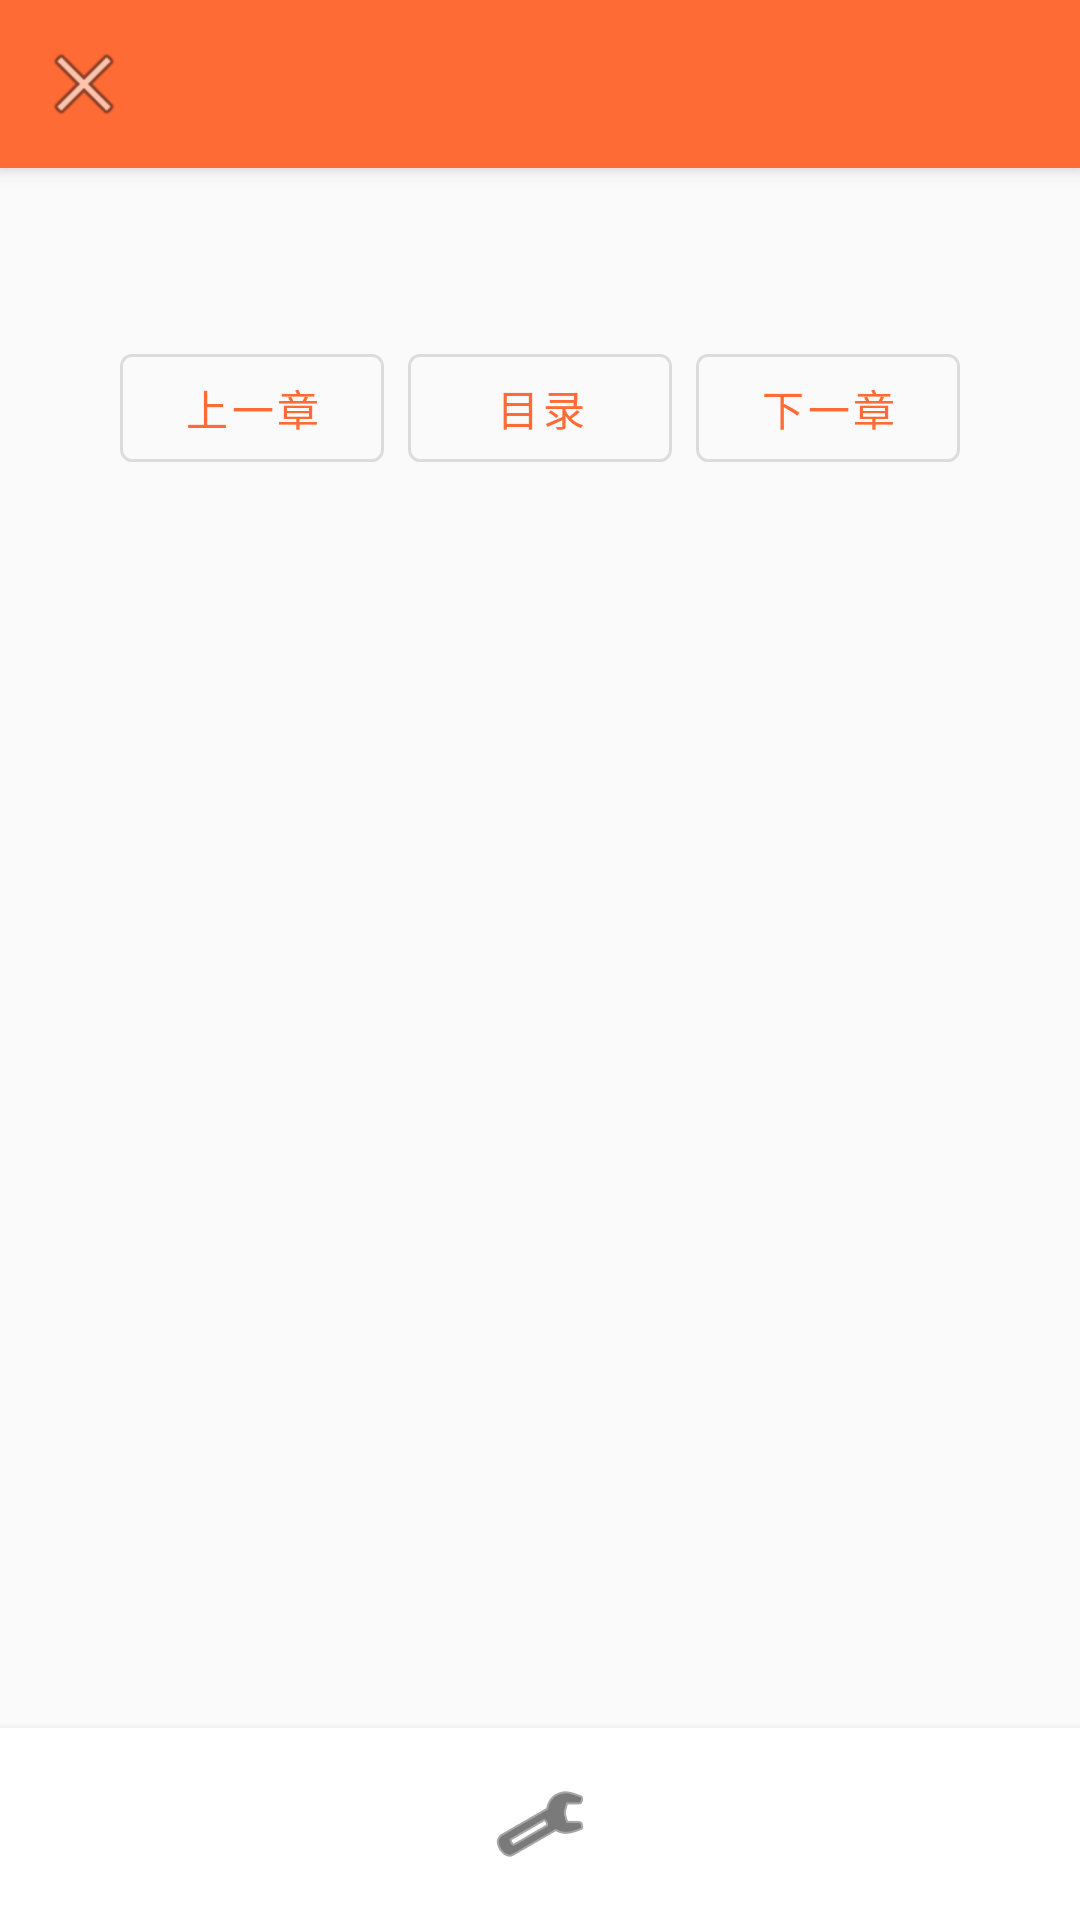

Point at icon controls on the screen. Image size 1080x1920, points as (x=x, y=y).
preferences: (x=540, y=1824)
